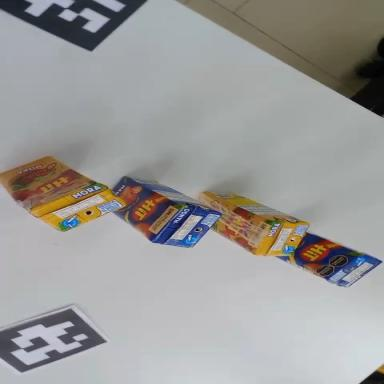HIT-MANGO: (100, 167, 222, 263), (276, 227, 382, 296)
HIT-MORA: (0, 139, 128, 252), (187, 182, 310, 269)
cara_F: (0, 140, 96, 218), (99, 174, 183, 247), (189, 190, 272, 255), (279, 226, 362, 287)
